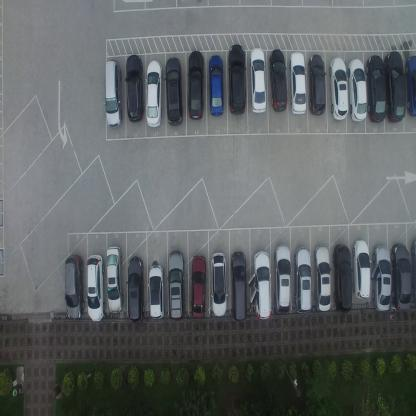car: (384, 50, 406, 123), (365, 53, 386, 124), (63, 254, 85, 320), (332, 244, 352, 314), (372, 243, 392, 313), (328, 56, 349, 122), (85, 253, 105, 322), (103, 58, 122, 130), (391, 243, 411, 311), (252, 249, 271, 320), (167, 248, 185, 321), (228, 43, 246, 116), (347, 57, 367, 122), (125, 52, 143, 124), (268, 49, 288, 113), (186, 50, 204, 121), (164, 56, 182, 127), (313, 243, 331, 314), (230, 250, 247, 324), (274, 242, 291, 315), (249, 47, 267, 115), (294, 246, 312, 314), (127, 254, 144, 324), (106, 244, 123, 314), (145, 59, 162, 128), (308, 53, 326, 117), (288, 50, 306, 113), (147, 263, 166, 322), (352, 238, 370, 300), (210, 252, 227, 317), (207, 53, 224, 117), (190, 253, 206, 320), (405, 55, 415, 118), (411, 239, 416, 308)
